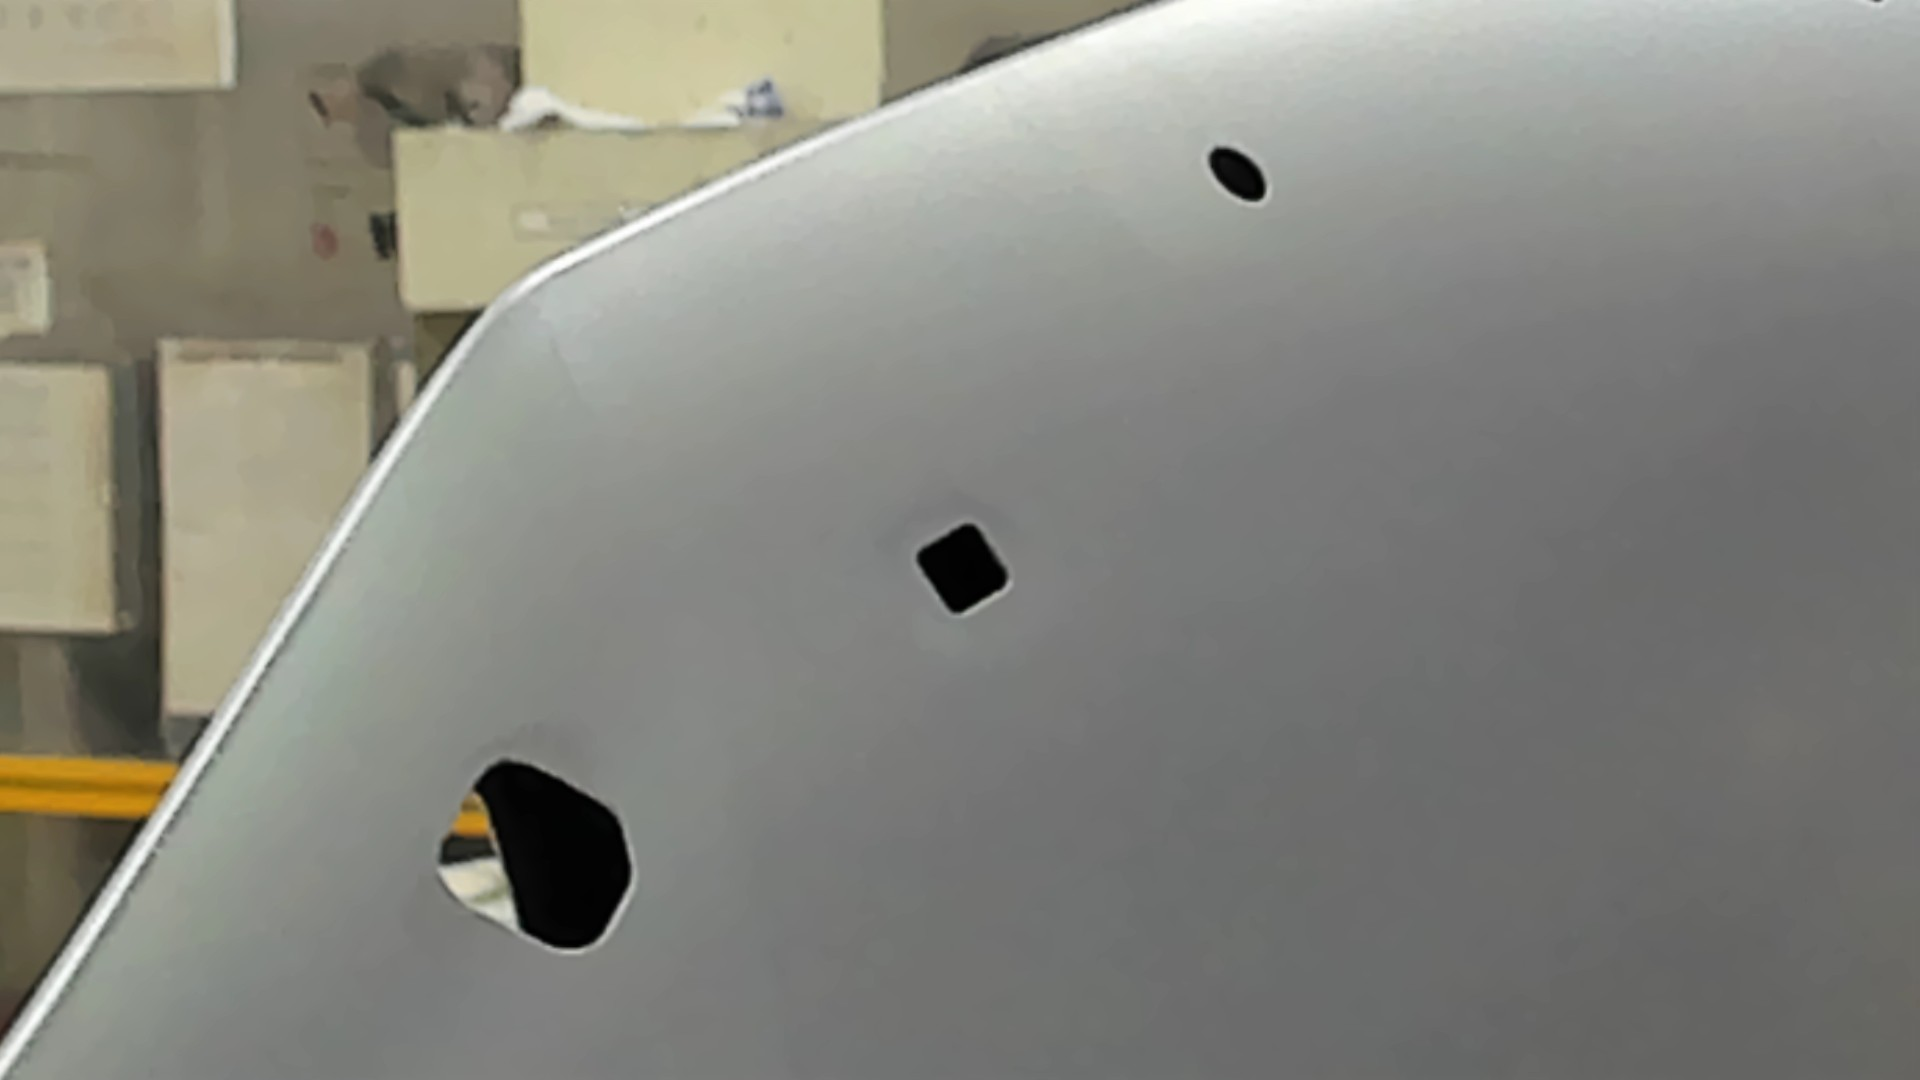chico: (1204, 138, 1271, 208)
grande: (429, 753, 642, 965)
mediano: (910, 516, 1015, 622)
